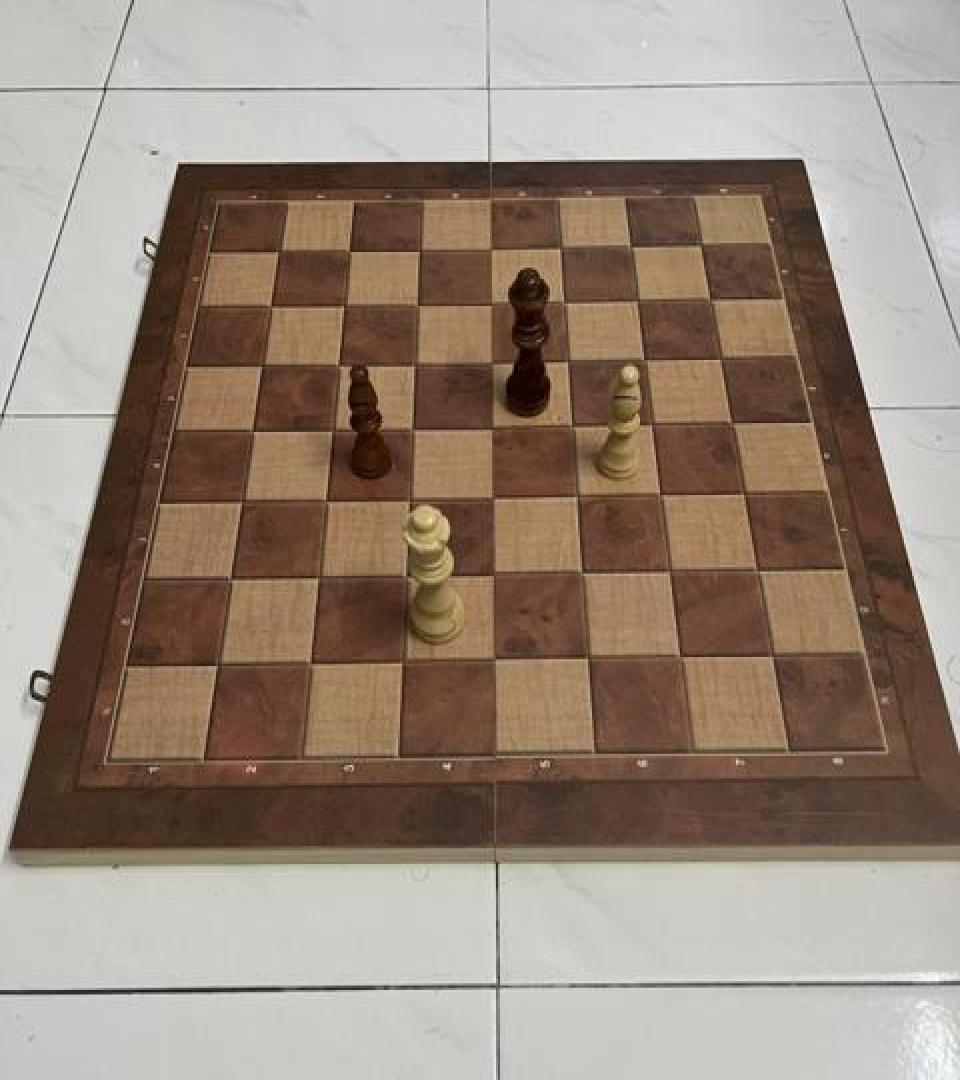xcorner: (297, 644, 329, 681), (685, 227, 717, 263), (615, 228, 647, 264), (545, 228, 577, 264), (475, 230, 507, 266), (405, 230, 437, 266), (335, 230, 367, 266), (264, 232, 296, 268), (694, 281, 726, 317), (622, 282, 654, 318), (549, 284, 581, 320), (476, 284, 508, 320), (403, 284, 435, 320), (330, 286, 362, 322), (256, 286, 288, 322), (705, 341, 737, 377), (629, 341, 661, 377), (553, 342, 585, 378), (477, 343, 509, 379), (401, 344, 433, 380), (324, 344, 356, 380), (248, 346, 280, 382), (716, 404, 748, 440), (637, 405, 669, 441), (558, 406, 590, 442), (478, 407, 510, 443), (399, 408, 431, 444), (319, 410, 351, 446), (238, 410, 270, 446), (729, 475, 761, 511), (646, 476, 678, 512), (563, 477, 595, 513), (479, 478, 511, 514), (396, 479, 428, 515), (312, 480, 344, 516), (228, 482, 260, 518), (742, 551, 774, 587), (655, 554, 687, 590), (568, 554, 600, 590), (481, 556, 513, 592), (393, 557, 425, 593), (305, 558, 337, 594), (216, 559, 248, 595), (757, 637, 789, 673), (666, 638, 698, 674), (574, 640, 606, 676), (482, 641, 514, 677), (390, 644, 422, 680), (204, 646, 236, 682)
